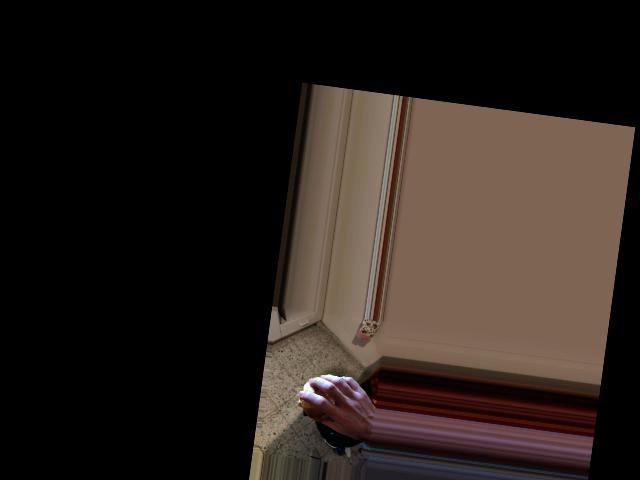onion: (298, 376, 341, 422)
